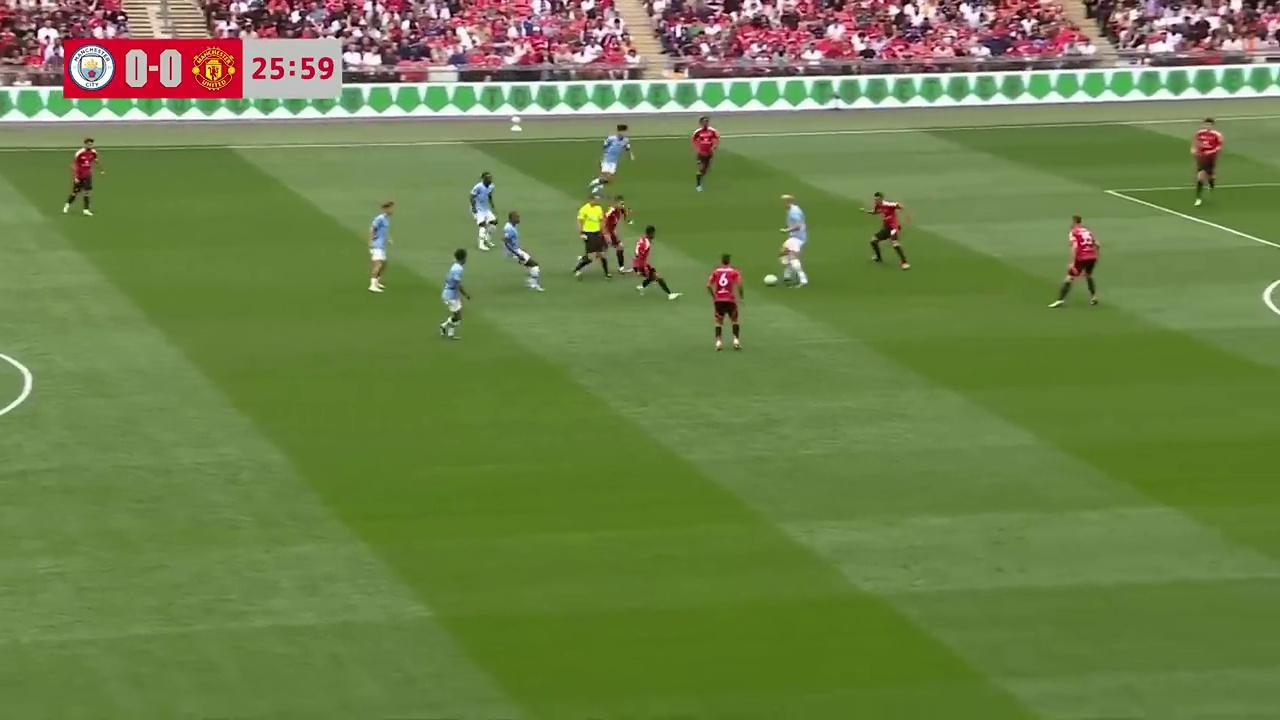ball: (763, 270, 777, 287)
player: (1049, 215, 1100, 308), (584, 122, 635, 196), (706, 253, 744, 352), (629, 224, 679, 298), (864, 192, 912, 269), (501, 211, 546, 292), (62, 137, 104, 216), (596, 194, 636, 272), (775, 197, 809, 287), (439, 248, 471, 339), (1190, 118, 1223, 205), (367, 201, 394, 292), (691, 118, 720, 192), (469, 172, 496, 250)
referee: (573, 194, 611, 280)
